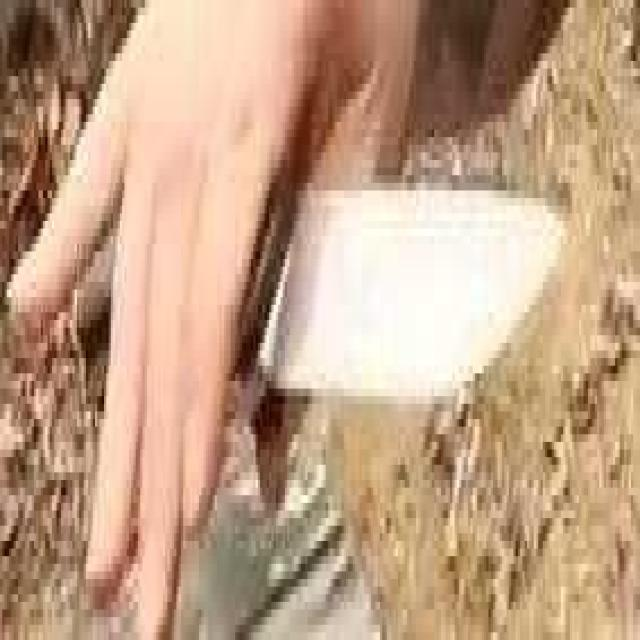Knife: (56, 64, 579, 478)
